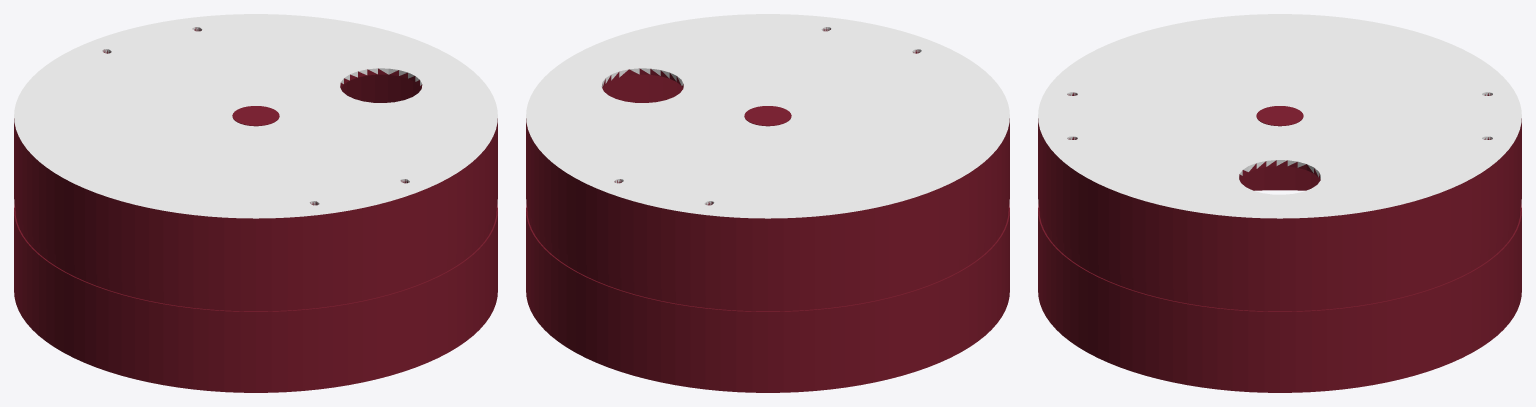
The model's file is BOTTOM_colour.dae.
3 renders of one model, left to right at view 1: azimuth 30°, elevation 25°; view 2: azimuth 150°, elevation 25°; view 3: azimuth 270°, elevation 25°, orthographic.
Parts seen in each view (by area): view 1: BOTTOM; view 2: BOTTOM; view 3: BOTTOM.
Part boxes in pixels (<box>): BOTTOM: <box>14,14,497,392</box>; BOTTOM: <box>526,14,1009,392</box>; BOTTOM: <box>1038,14,1521,392</box>.
Size of the model in its own units: 0.352 by 0.352 by 0.1404.
